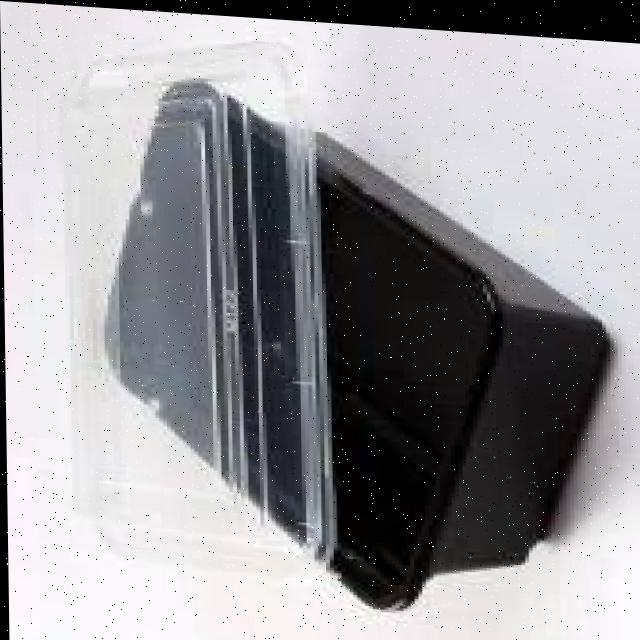disposable: (77, 55, 636, 633)
